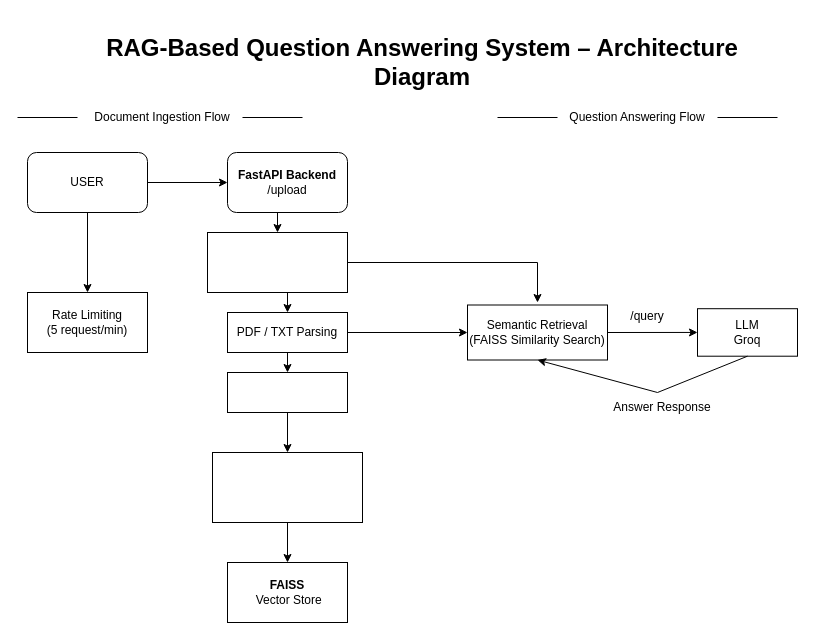
Image size: 815x640. Some labels were removed from this diagram. The shapes that lost their labels are listed below. From the top down, each one's centre as x and y in pixels, then its label:
At (277,262): "Document Ingestion (Background Task)".
At (287,392): "Chunking".
At (287,487): "Embedding Generation (Sentence Transformers)".
